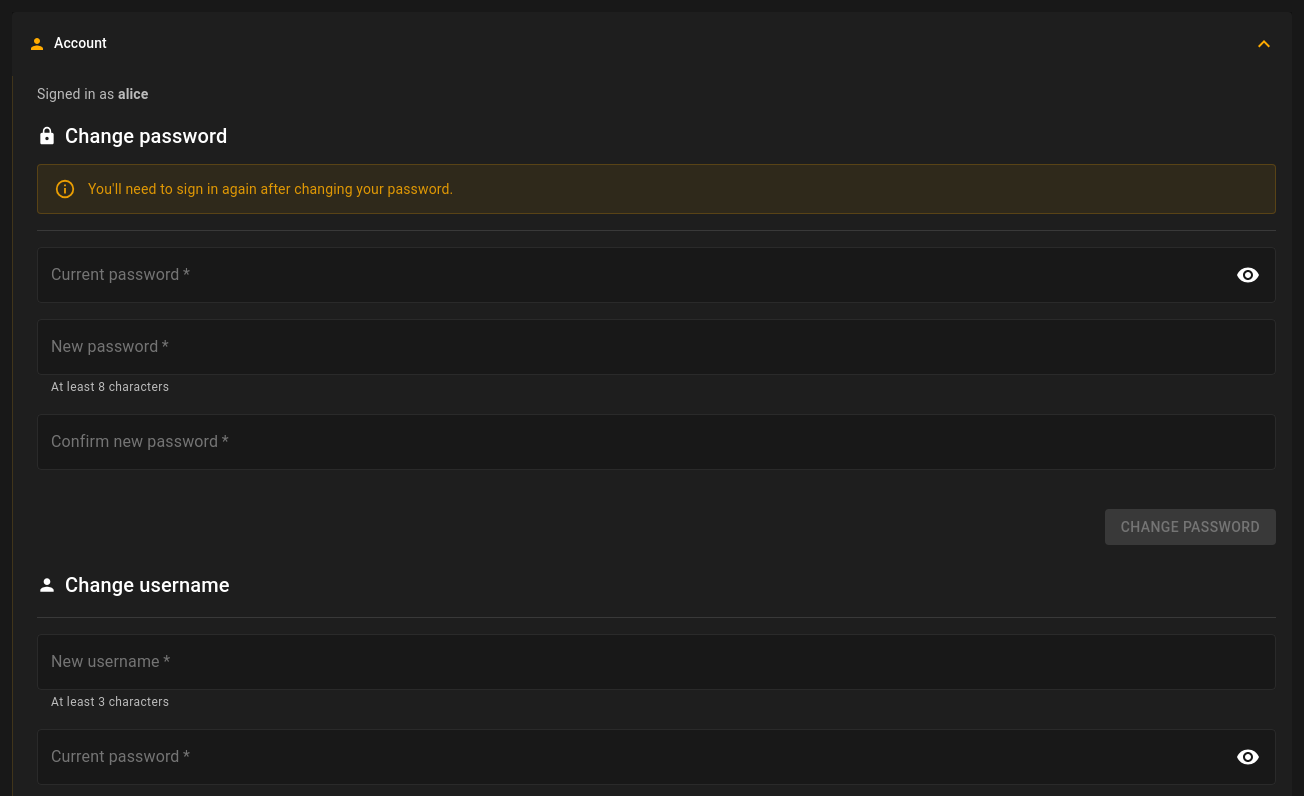
AccountAccordion › shows success message after password change
Type "oldpass" into the 1st password field labelled "Current password *". click: (630, 275)
box: [37,247,1223,303]
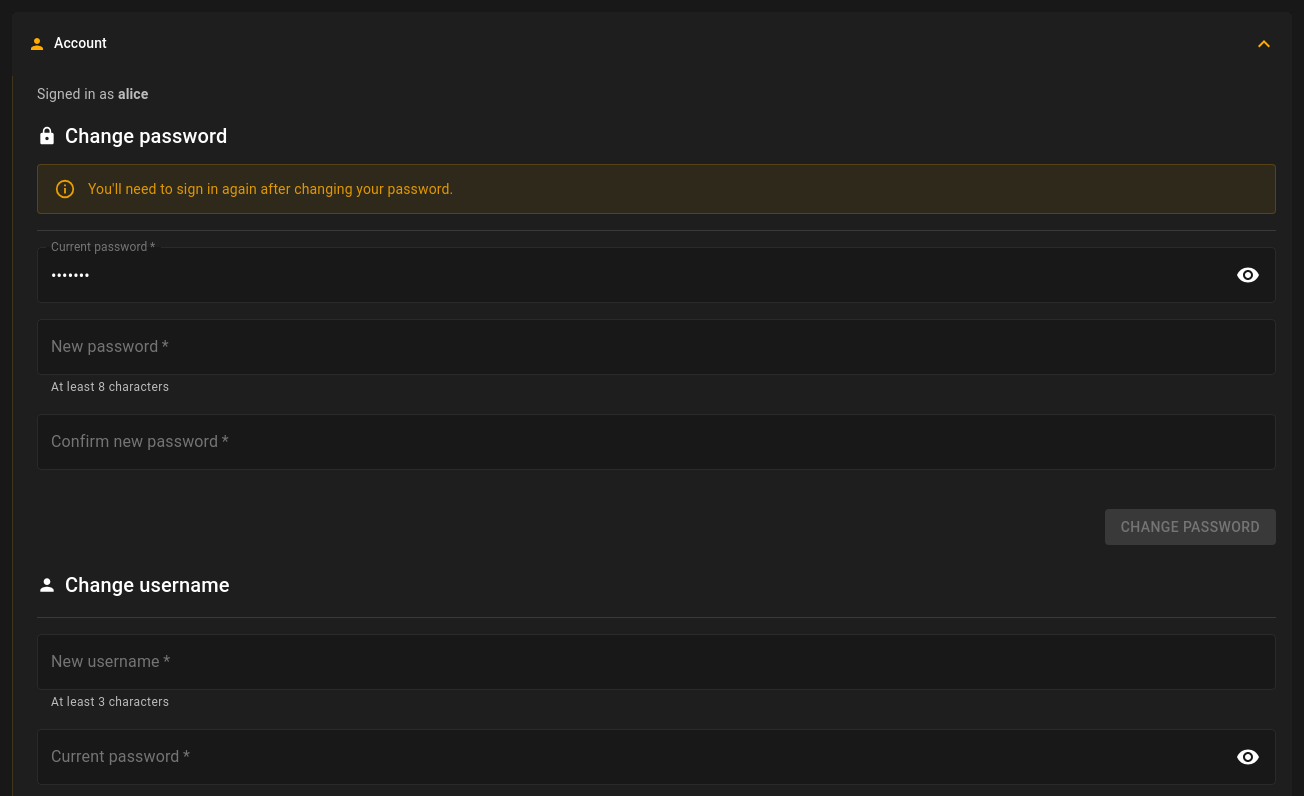
Type "newpassword123" into the password field labelled "New password *". click: (656, 347)
box: [37,319,1276,375]
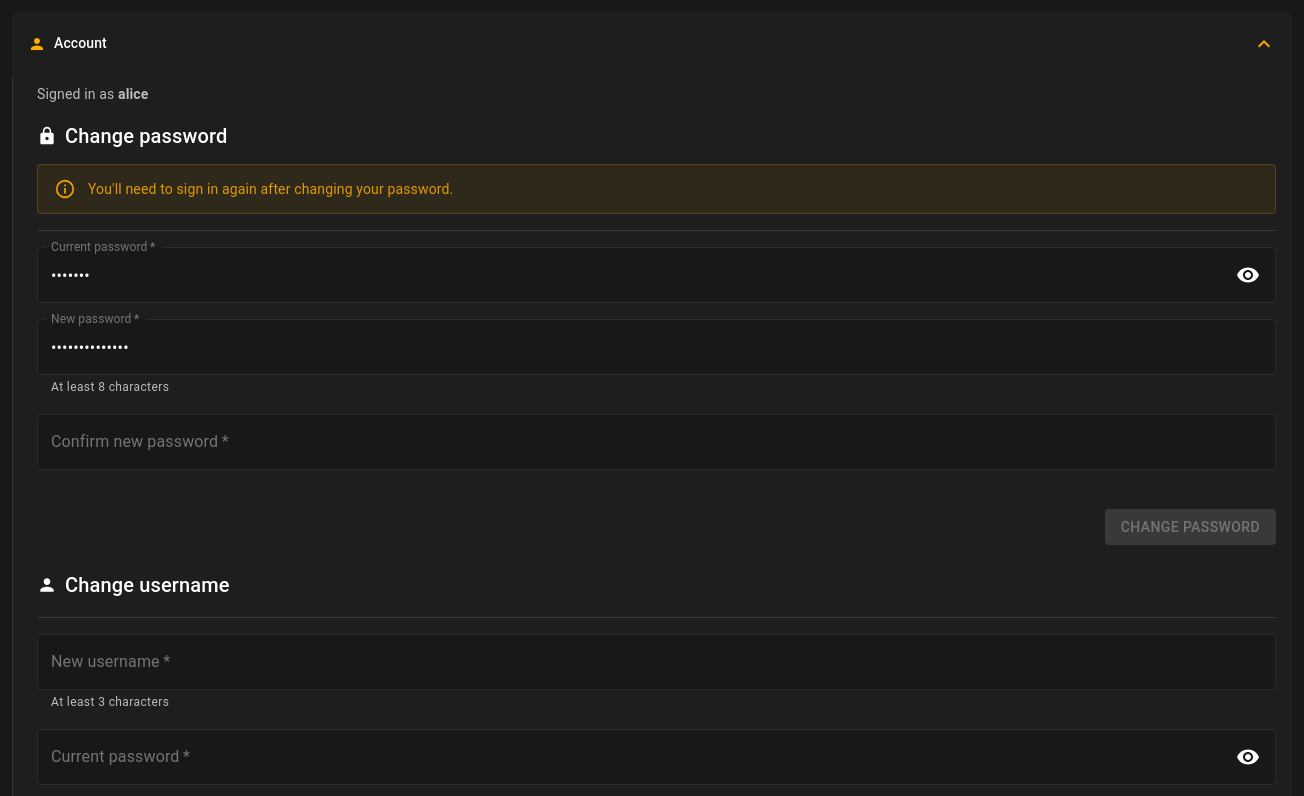
Type "newpassword123" into the password field labelled "Confirm new password *". click: (656, 442)
box: [37,414,1276,470]
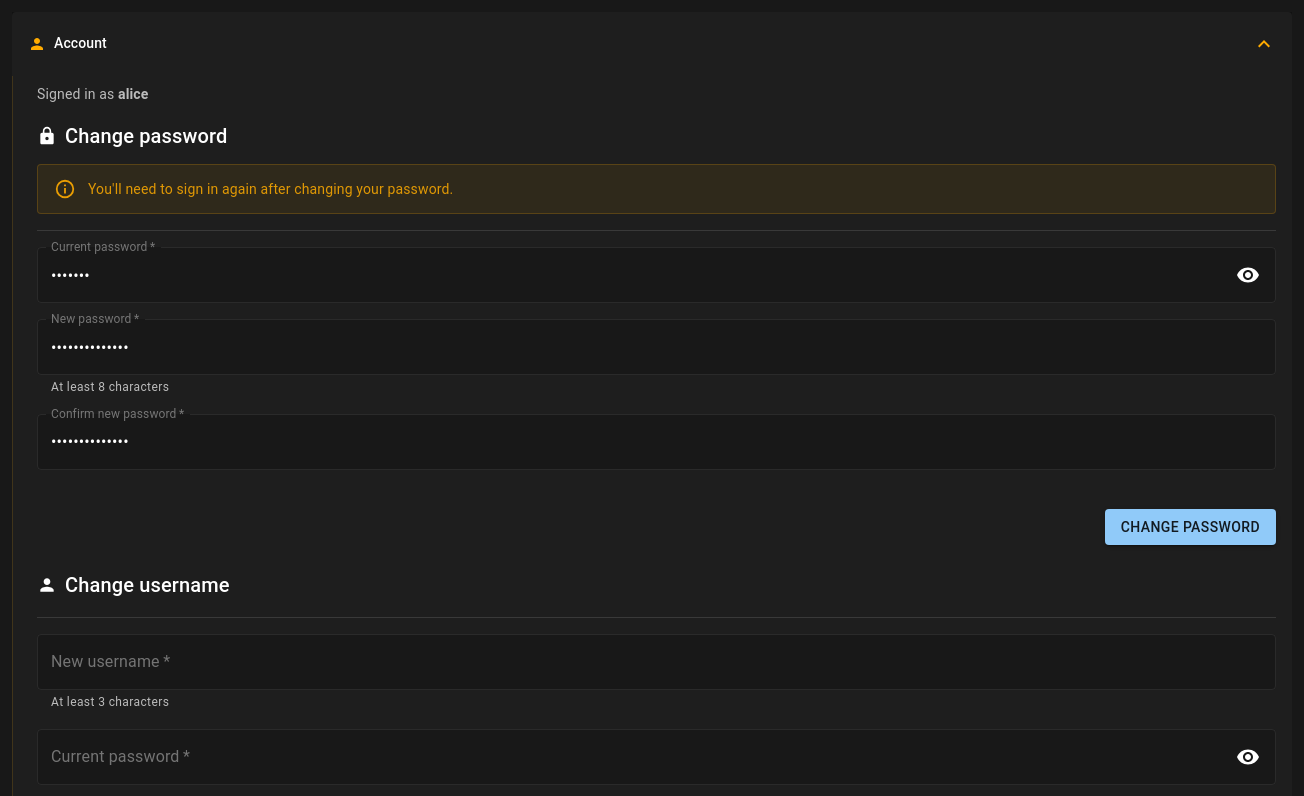
Click the button "Change password". click: (1190, 527)
box: [1105,509,1276,545]
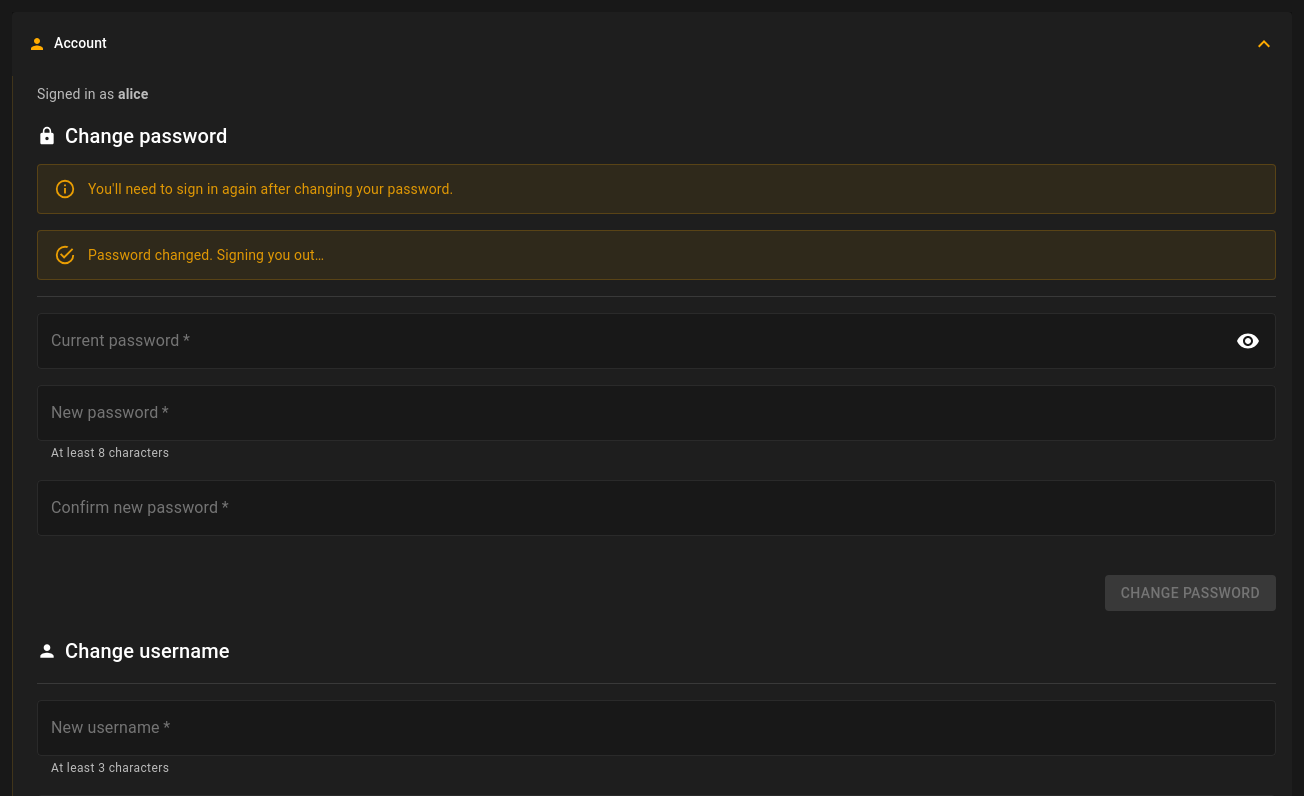
Now the text "Password changed. Signing you out…" is shown, box [88,247,324,263]
